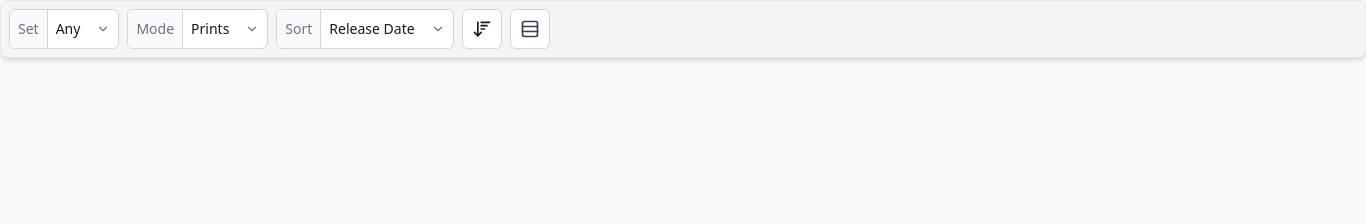
Test: CardArtFilterBar › Scryfall Mode › loads and displays sets
The image size is (1366, 224).
Open Set dropdown
Click the button "Set Any" at (64, 29), box x1=9 y1=9 x2=119 y2=49
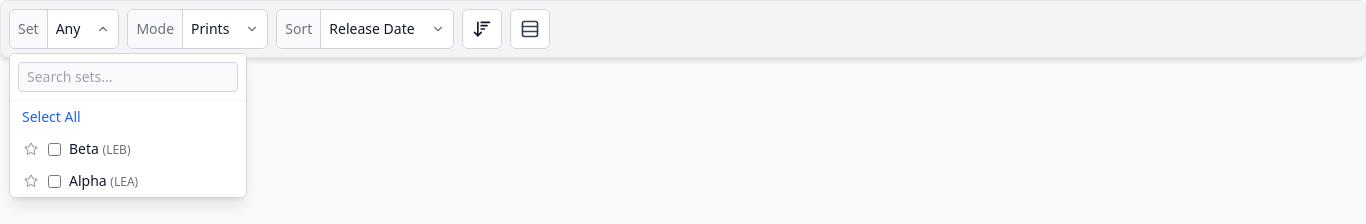
Expected: the text "Alpha" is shown, x1=69 y1=171 x2=107 y2=190
Expected: the text "Beta" is shown, x1=69 y1=139 x2=99 y2=158
